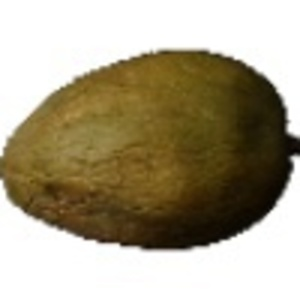mamão: (2, 35, 294, 263)
